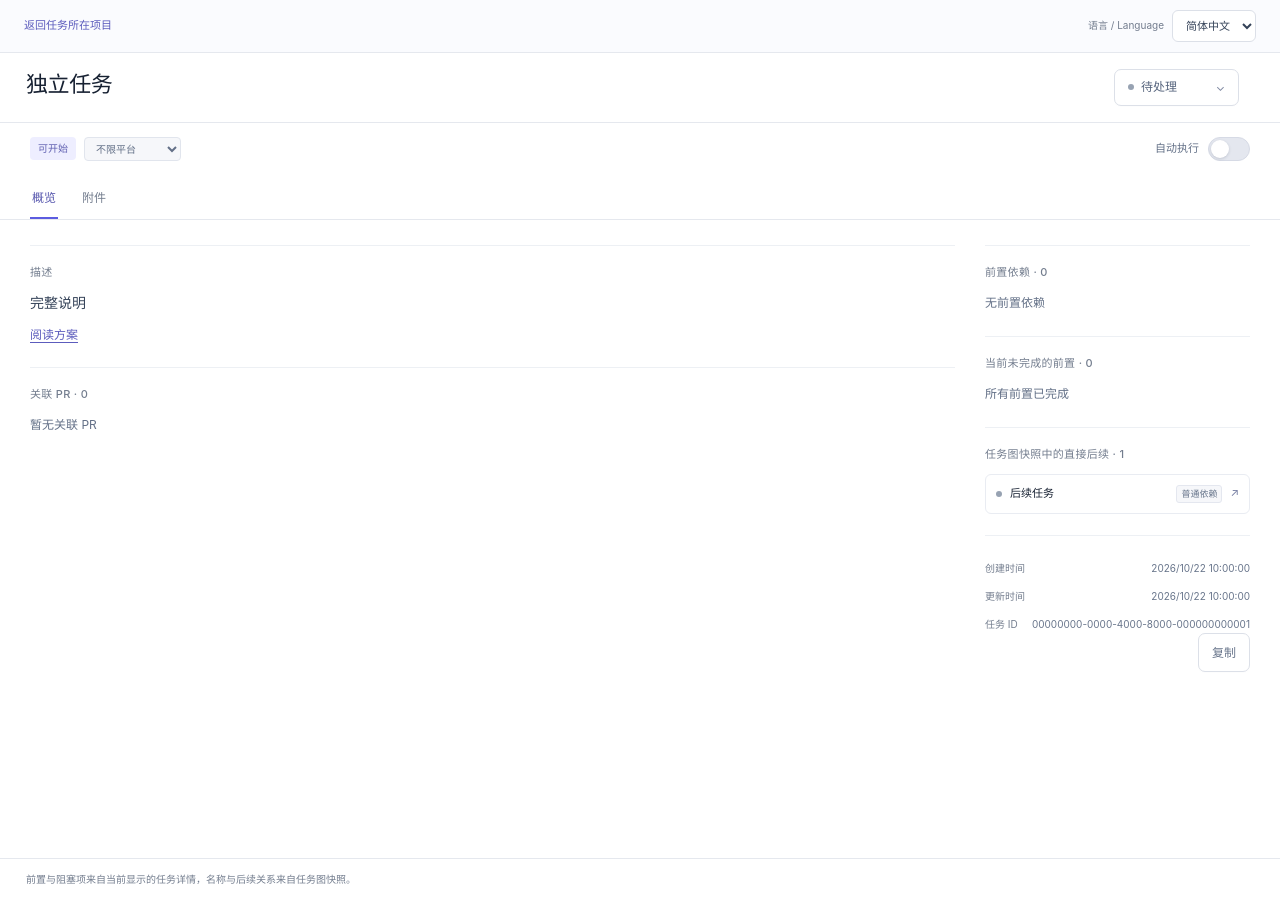
Test: standalone full task details › reconciles a standalone status unknown without resubmitting the write
Expected: the heading "独立任务" is shown, [26,71,112,97]
Click the button with class "task-status-trigger": (1176, 87) [1114,69,1239,106]
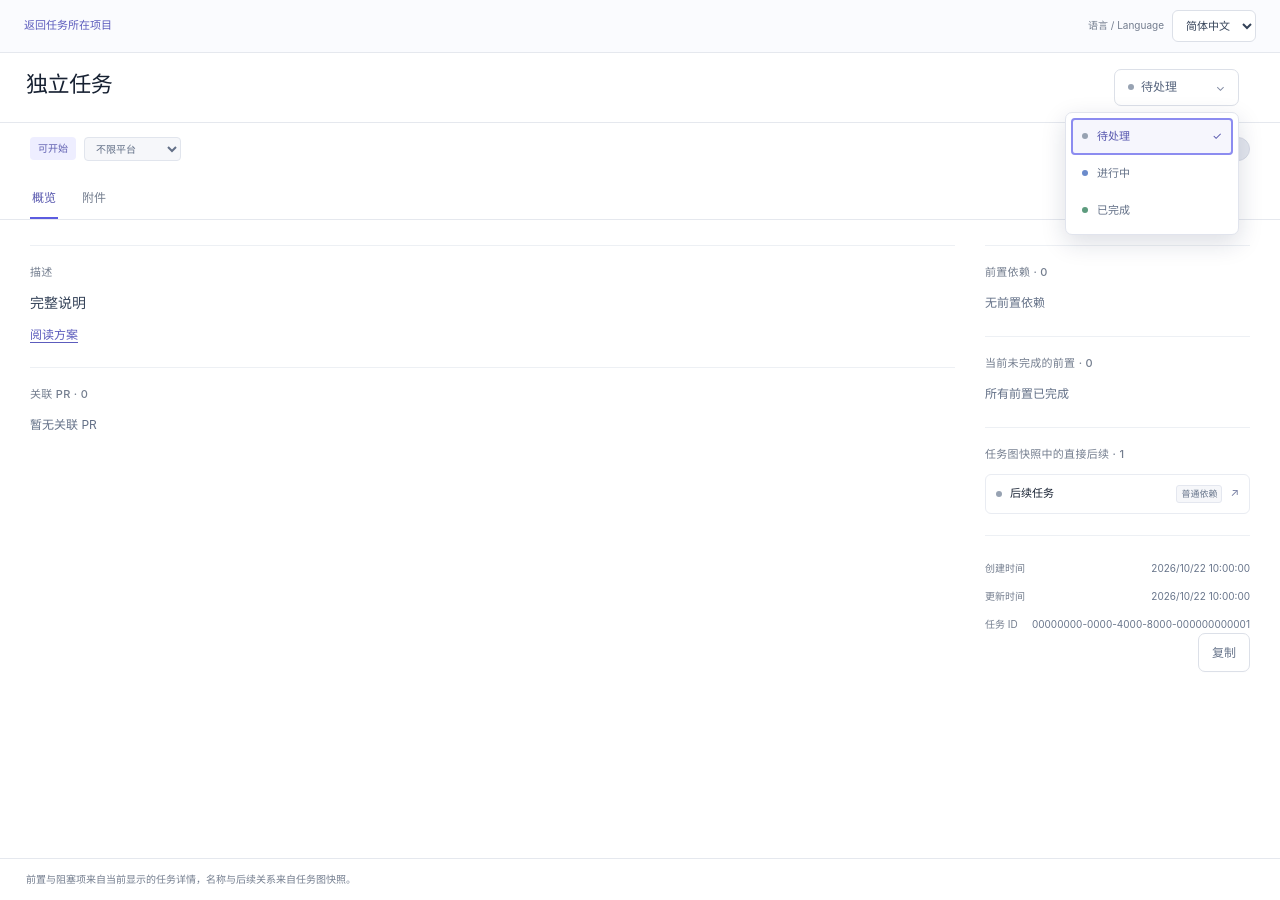
Click the menu item "已完成": (1152, 210) [1071,192,1233,229]
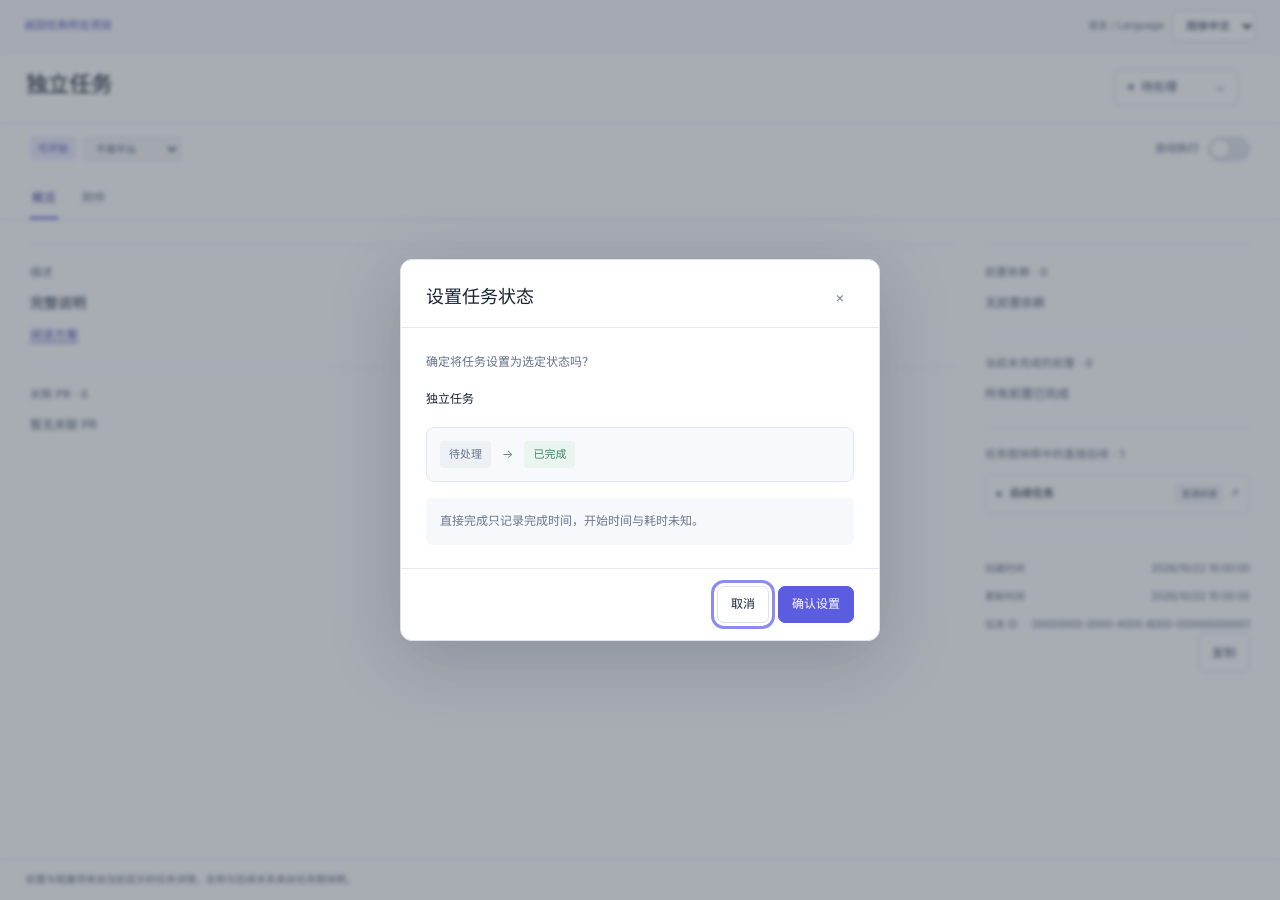
Click the button "确认设置": (816, 604) [778,586,854,622]
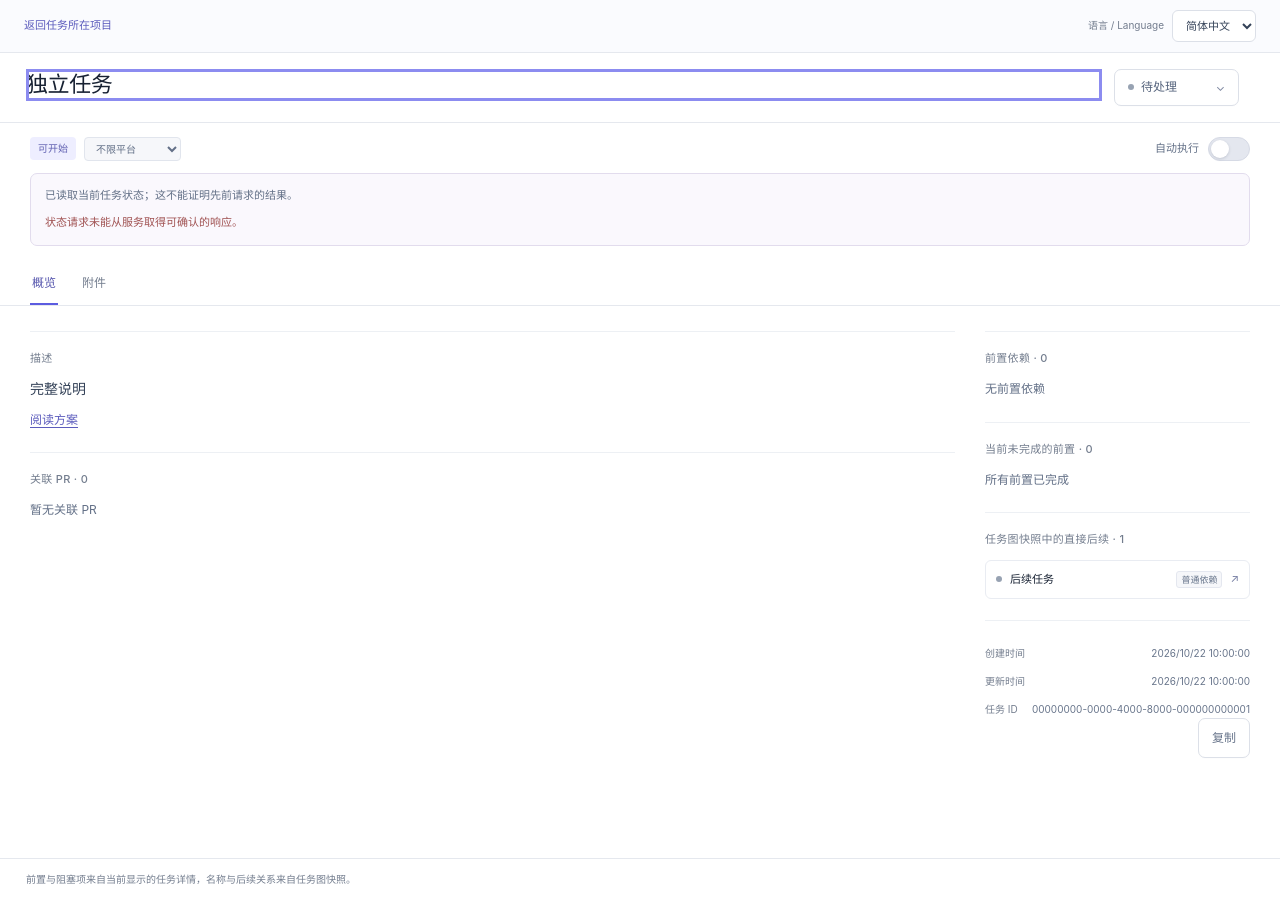
Expected: the button with class "task-status-trigger" is enabled, [1114,69,1239,106]
Expected: the text "已读取当前任务状态；这不能证明先前请求的结果。" is shown, [45,188,298,202]
